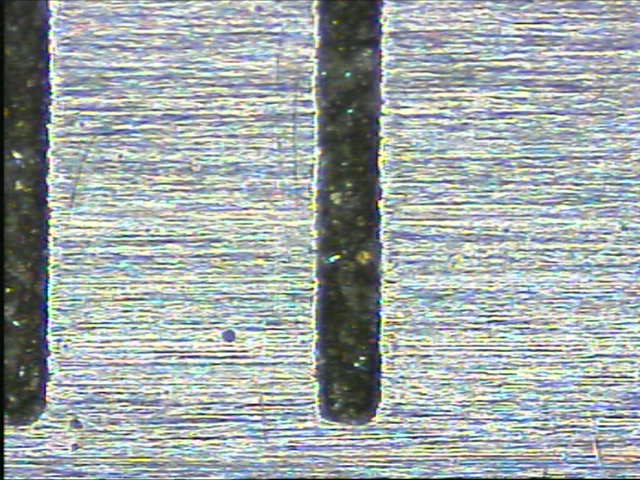line: (314, 1, 385, 428)
